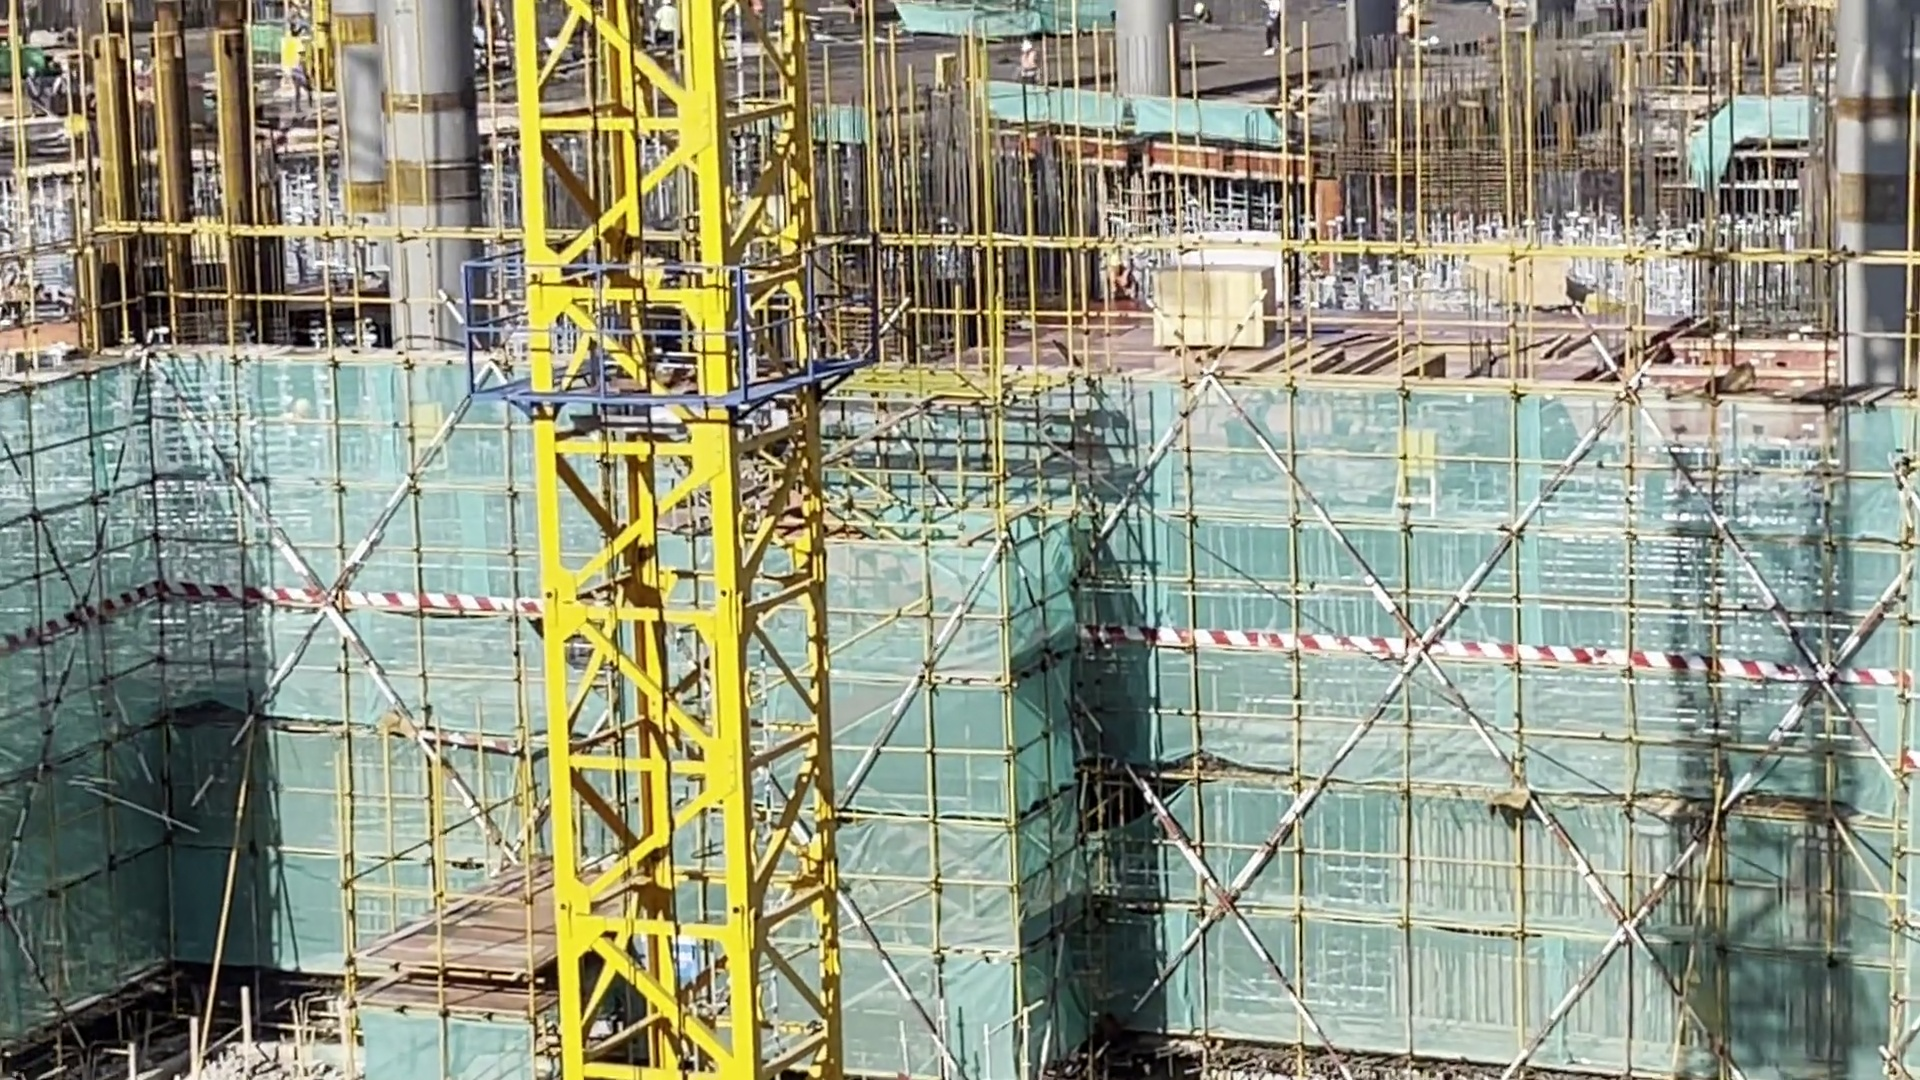person: (1262, 1, 1290, 57), (1020, 40, 1039, 81)
